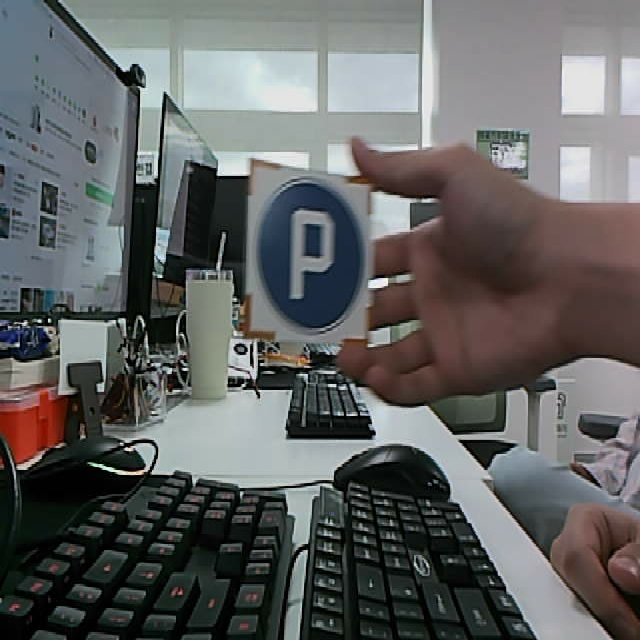parking: (244, 157, 374, 344)
